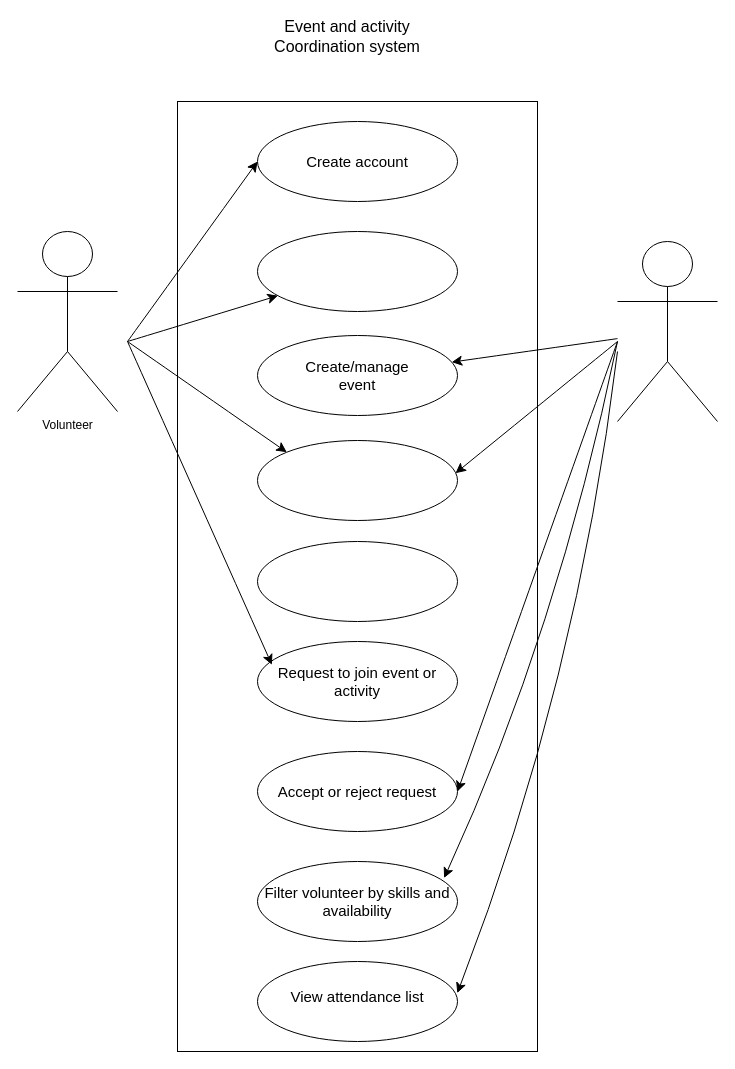
This 735x1069 diagram has some shape labels left out. The shapes that lost their labels are listed below. From the top down, each one's centre as x and y in pixels, then its label:
point 357,271: Manage profile, Skills, and availability
point 667,331: Organiser
point 357,480: View events and activities
point 357,581: Cancel/change event or activity
